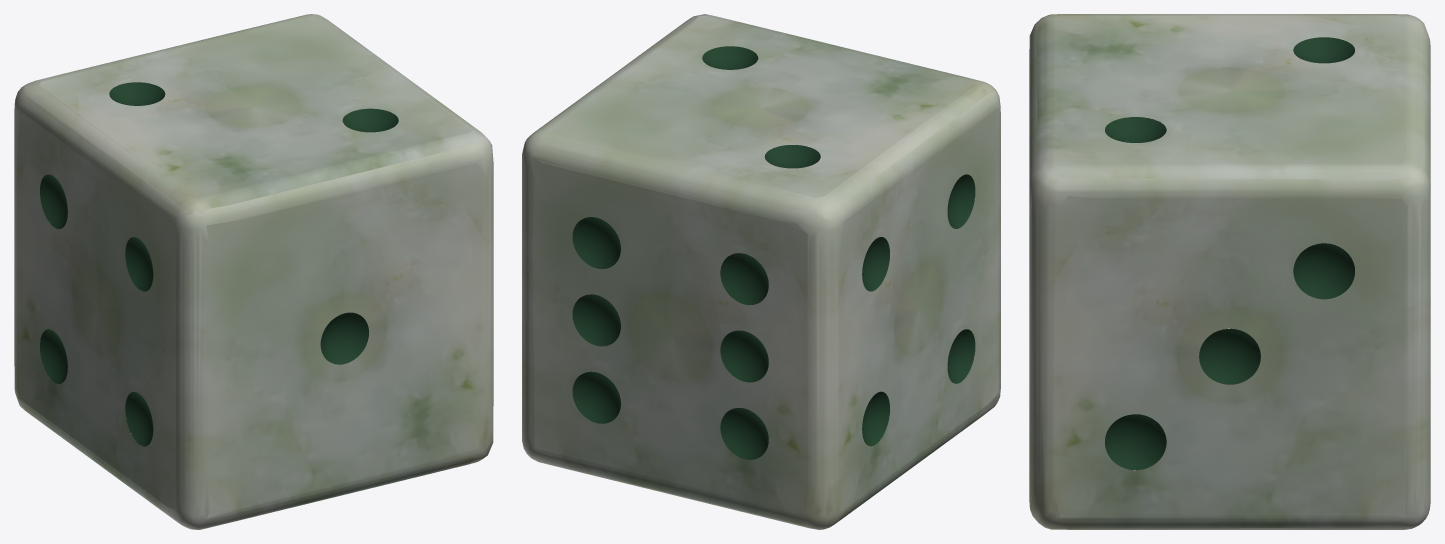
3 renders of one model, left to right at view 1: azimuth 30°, elevation 25°; view 2: azimuth 150°, elevation 25°; view 3: azimuth 270°, elevation 25°, orthographic. The views are drawn at different scales.
Visible parts, largest first — view 1: Jade Dice - 1 2 3 4 5 6; view 2: Jade Dice - 1 2 3 4 5 6; view 3: Jade Dice - 1 2 3 4 5 6.
Boxes of the visible parts, left/top/right/bottom form: Jade Dice - 1 2 3 4 5 6: left=14, top=14, right=493, bottom=529; Jade Dice - 1 2 3 4 5 6: left=522, top=14, right=1000, bottom=529; Jade Dice - 1 2 3 4 5 6: left=1029, top=14, right=1430, bottom=529.
Size of the model in its own units: 1 by 1 by 1.
Materials: 2 (1 with a texture image).
